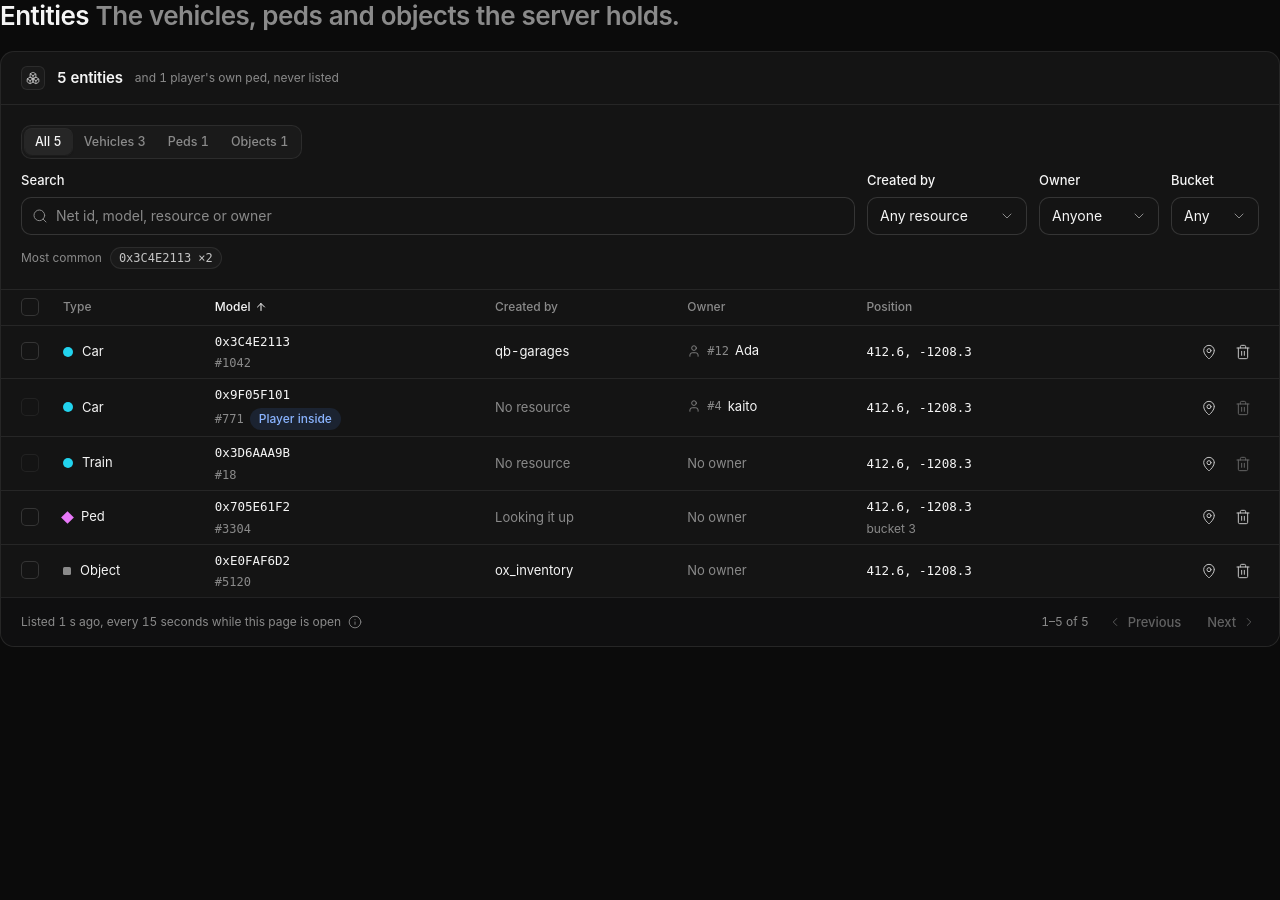
Test case: EntitiesPage › should delete what is selected once confirmed, and say what became of each entity
Click the checkbox named "Select Car 0x3C4E2113, #1042": {"x": 30, "y": 351} [21,342,39,360]
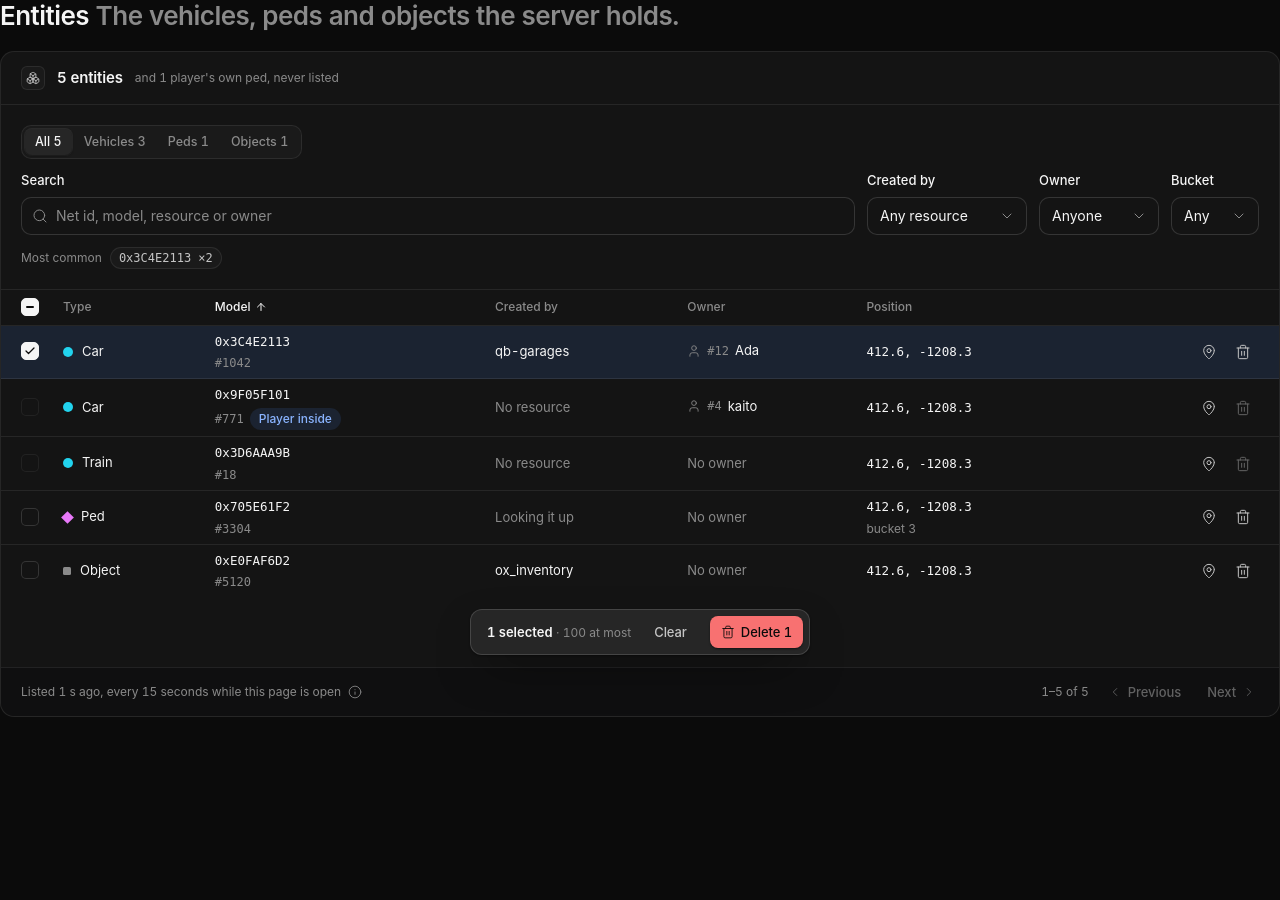
Click the checkbox named "Select Object 0xE0FAF6D2, #5120": {"x": 30, "y": 570} [21,561,39,579]
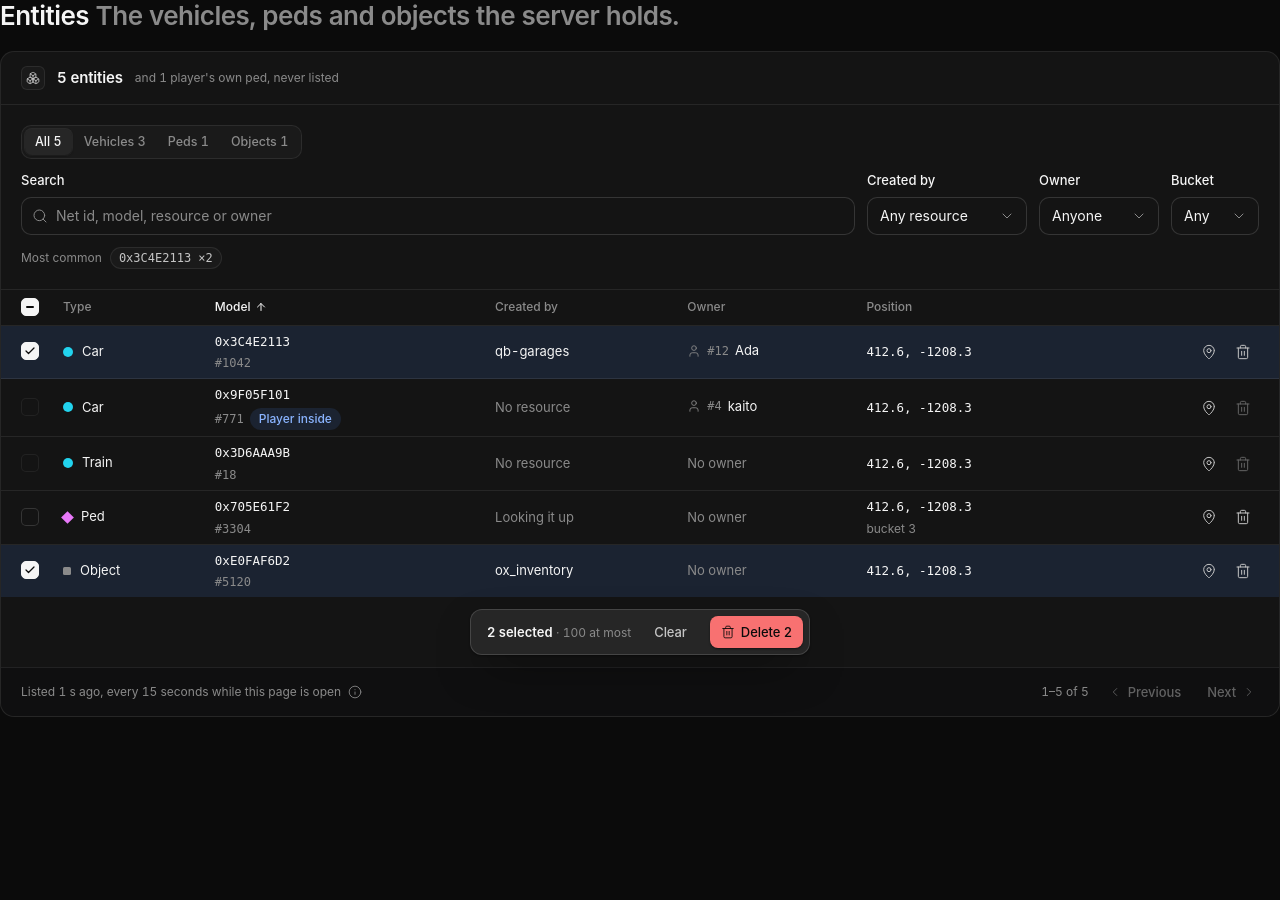
Click the button "Delete 2": {"x": 756, "y": 632} [710,616,803,648]
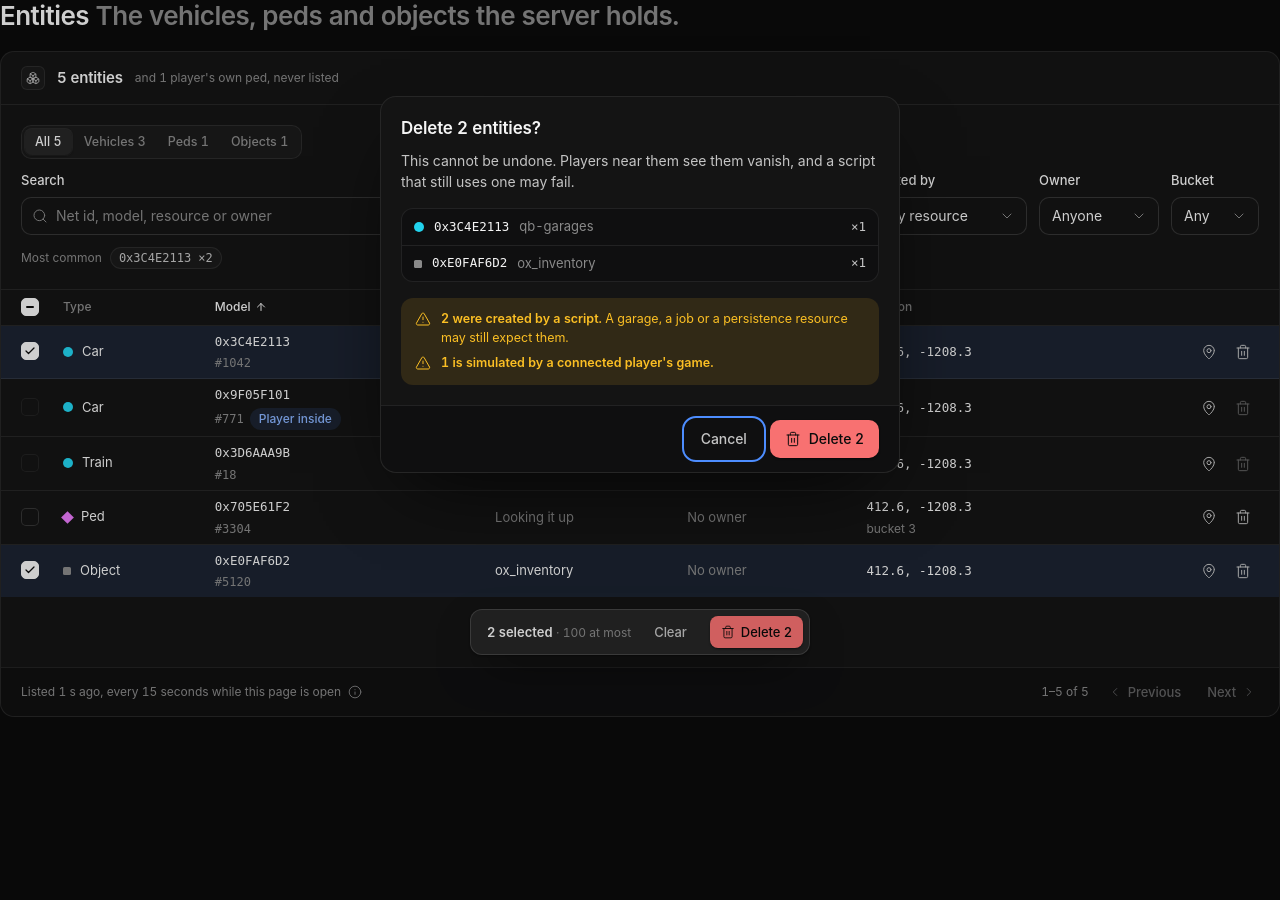
Click the button "Delete 2": {"x": 824, "y": 439} [770,420,879,458]
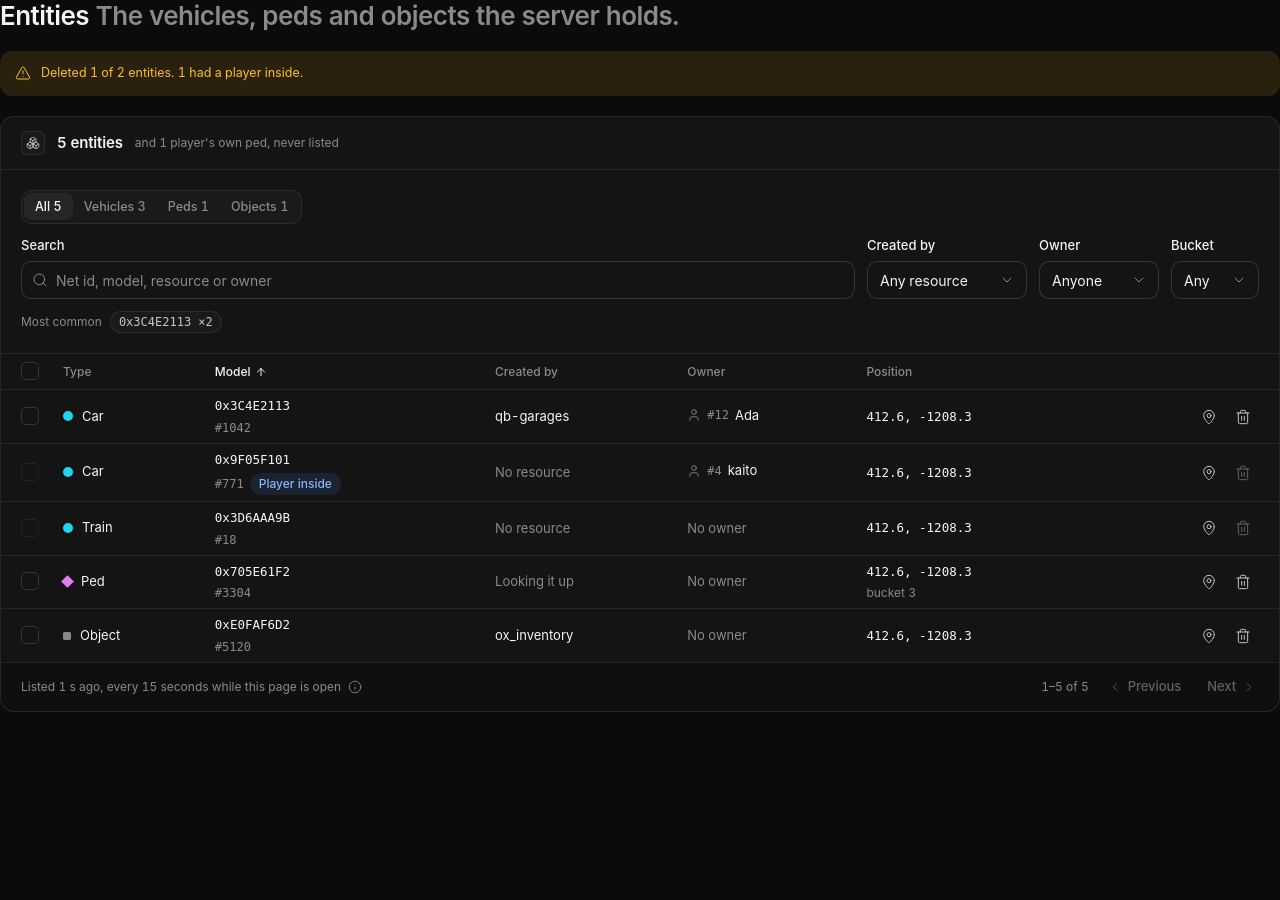
Expected: the message reads "Deleted 1 of 2 entities. 1 had a player inside.", [41,65,303,80]
